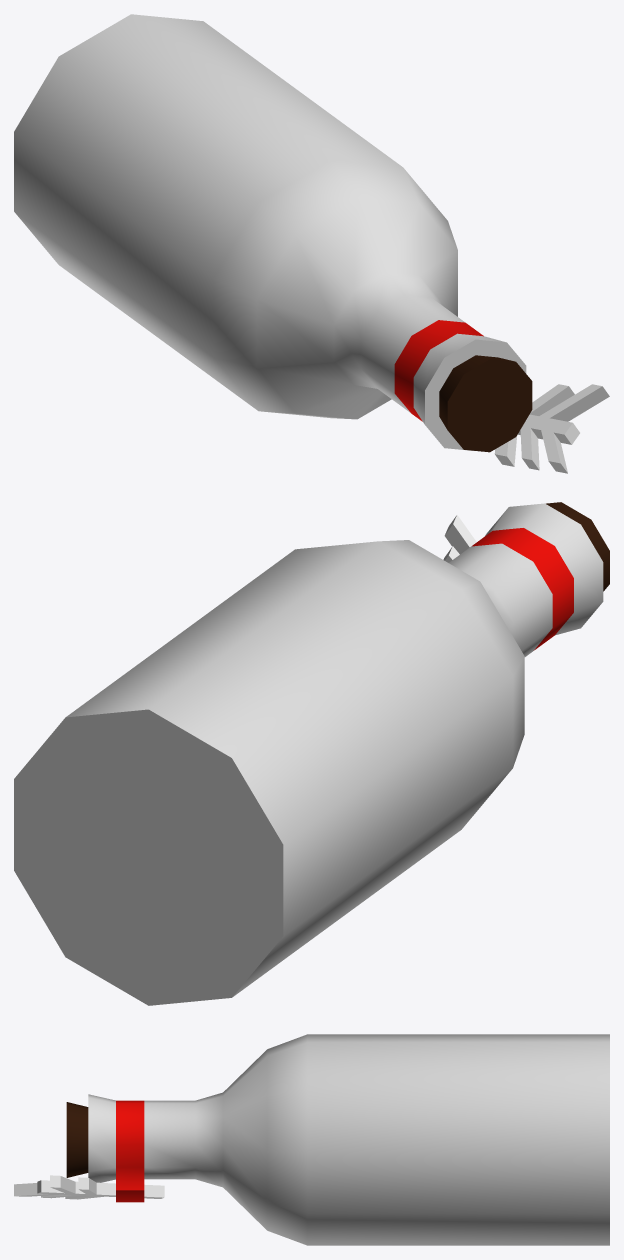
File: Milk.fbx
3 views of the same model, one above another, from view 1: azimuth 30°, elevation 25°; view 2: azimuth 150°, elevation 25°; view 3: azimuth 270°, elevation 25° (orthographic). The views are drawn at different scales.
Visible parts, largest first — view 1: MilkObject; view 2: MilkObject; view 3: MilkObject.
Part boxes in pixels (x1,y1,x2,y2): MilkObject: (14,14,609,473); MilkObject: (14,502,609,1005); MilkObject: (14,1034,609,1245).
Bounding box in the file's own units: 0.1422 × 0.1495 × 0.4138.
